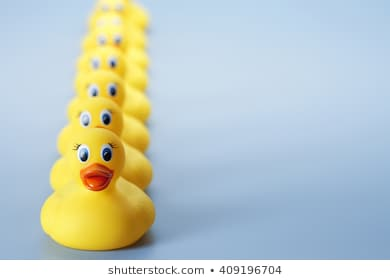duck: (24, 133, 160, 254)
